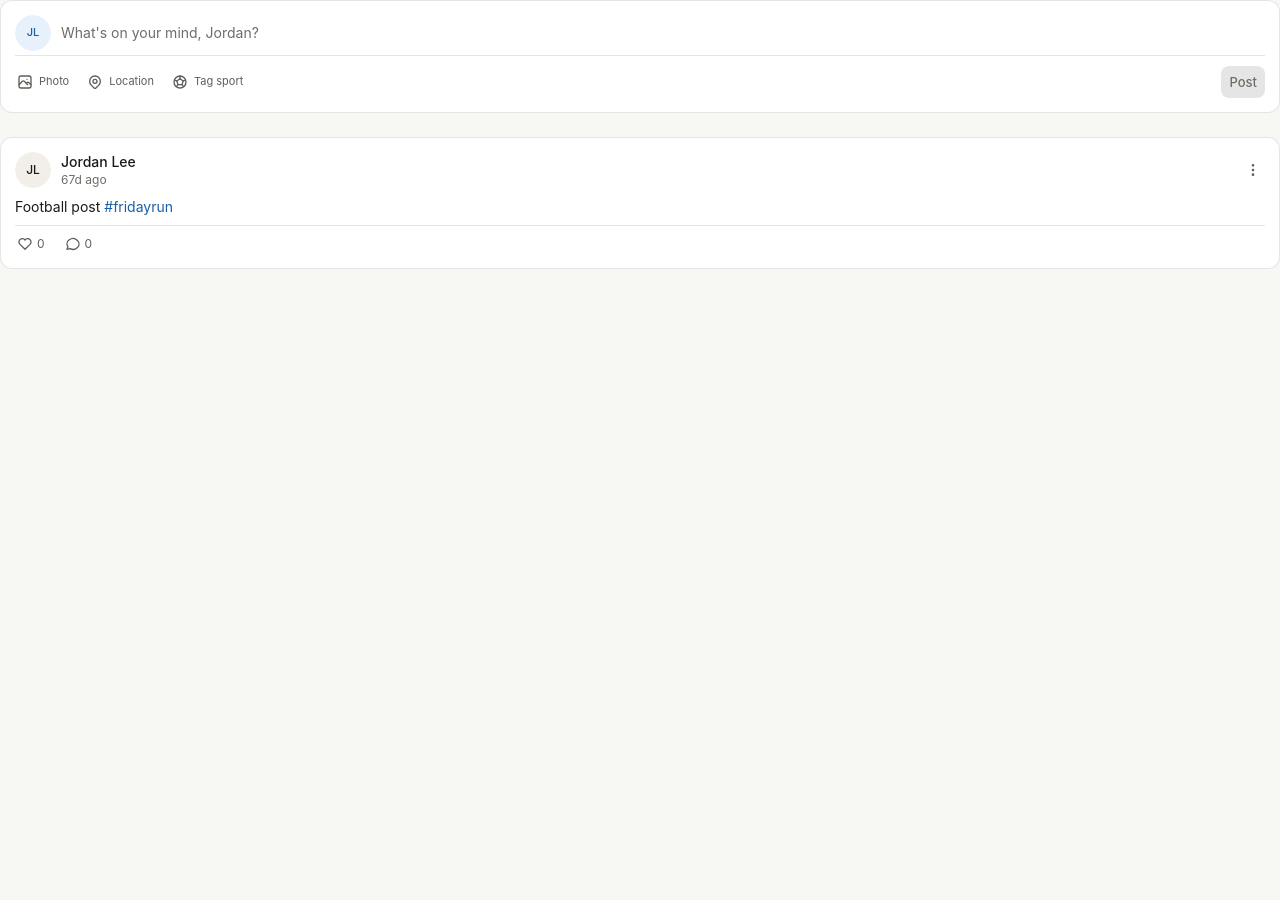
Test case: PostsTab › opens the hashtag modal when a hashtag is clicked
Click the button "#fridayrun" at (139, 206), box x1=104 y1=196 x2=173 y2=217
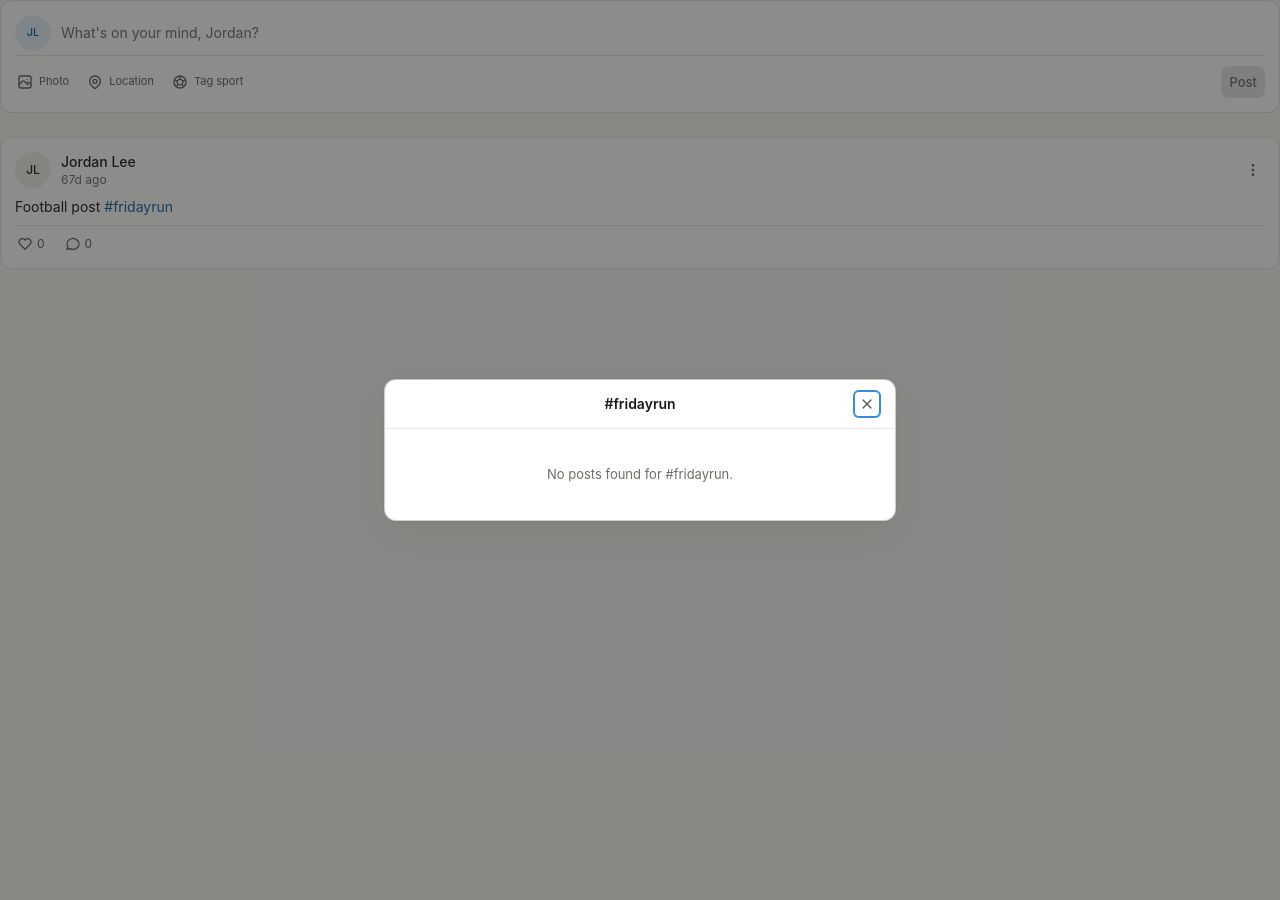
Now the dialog is shown, box x1=384 y1=379 x2=896 y2=521
